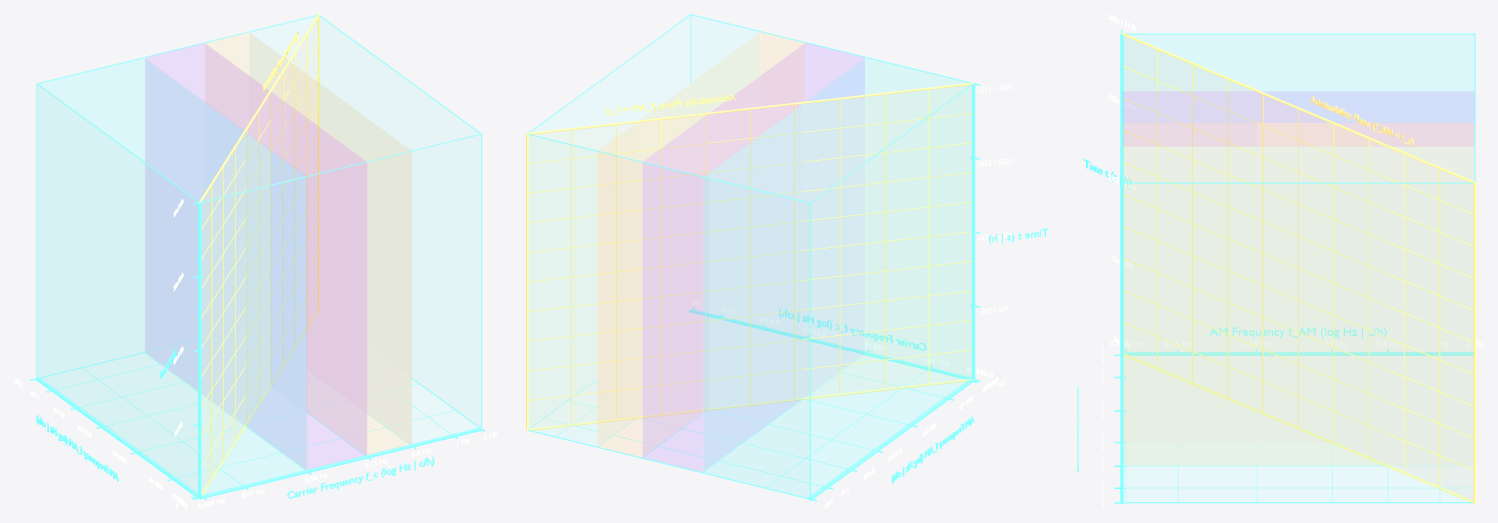
Rendered from hhsa_axes.glb.
3 renders of one model, left to right at view 1: azimuth 30°, elevation 25°; view 2: azimuth 150°, elevation 25°; view 3: azimuth 270°, elevation 25°, orthographic. The views are drawn at different scales.
Parts seen in each view (by area): view 1: BandSlab_fc_VLF, BandSlab_fc_LF, BandSlab_fc_HF, BandSlab_fc_VHF, Axis_Z_Time_t, Axis_X_Carrier_fc, Admissibility_fAM_eq_fc_z_10, Axis_Y_AM_fam, Title_Axis_X_fc, Admissibility_fAM_eq_fc_xy_10, Frame_Edge_6, Frame_Edge_8 (+9 smaller); view 2: BandSlab_fc_VLF, BandSlab_fc_LF, BandSlab_fc_VHF, BandSlab_fc_HF, Admissibility_fAM_eq_fc_xy_10, Admissibility_fAM_eq_fc_xy_0, Axis_Z_Time_t, Axis_X_Carrier_fc, Admissibility_fAM_eq_fc_z_10, Axis_Y_AM_fam, Admissibility_fAM_eq_fc_xy_2, Admissibility_fAM_eq_fc_xy_1 (+15 smaller); view 3: BandSlab_fc_VHF, BandSlab_fc_HF, BandSlab_fc_VLF, BandSlab_fc_LF, Axis_Y_AM_fam, Admissibility_fAM_eq_fc_z_10, Axis_Z_Time_t, Admissibility_fAM_eq_fc_xy_10, Admissibility_fAM_eq_fc_xy_0, Frame_Edge_3, Frame_Edge_5, Frame_Edge_0 (+21 smaller).
Part boxes in pixels (x1,y1,x2,y2): BandSlab_fc_VLF: (38, 58, 305, 494); BandSlab_fc_LF: (146, 44, 366, 468); BandSlab_fc_HF: (206, 33, 410, 454); BandSlab_fc_VHF: (250, 17, 480, 443); Axis_Z_Time_t: (198, 203, 201, 498); Axis_X_Carrier_fc: (200, 427, 482, 499); Admissibility_fAM_eq_fc_z_10: (317, 16, 319, 309); Axis_Y_AM_fam: (36, 377, 199, 499); Title_Axis_X_fc: (287, 456, 434, 498); Admissibility_fAM_eq_fc_xy_10: (199, 14, 319, 202); Frame_Edge_6: (481, 134, 482, 427); Frame_Edge_8: (36, 84, 37, 377); BandSlab_fc_VLF: (704, 58, 971, 497); BandSlab_fc_LF: (643, 43, 864, 471); BandSlab_fc_VHF: (529, 15, 759, 445); BandSlab_fc_HF: (598, 32, 804, 456); Admissibility_fAM_eq_fc_xy_10: (527, 82, 973, 134); Admissibility_fAM_eq_fc_xy_0: (527, 378, 971, 430); Axis_Z_Time_t: (972, 84, 975, 379); Axis_X_Carrier_fc: (690, 309, 971, 379); Admissibility_fAM_eq_fc_z_10: (526, 134, 528, 430); Axis_Y_AM_fam: (809, 378, 974, 500); Admissibility_fAM_eq_fc_xy_2: (528, 320, 972, 371); Admissibility_fAM_eq_fc_xy_1: (528, 349, 972, 400); BandSlab_fc_VHF: (1123, 147, 1473, 501); BandSlab_fc_HF: (1123, 123, 1473, 464); BandSlab_fc_VLF: (1124, 35, 1473, 122); BandSlab_fc_LF: (1123, 92, 1473, 145); Axis_Y_AM_fam: (1124, 352, 1473, 355); Admissibility_fAM_eq_fc_z_10: (1473, 183, 1476, 503); Axis_Z_Time_t: (1120, 33, 1123, 352); Admissibility_fAM_eq_fc_xy_10: (1121, 32, 1475, 183); Admissibility_fAM_eq_fc_xy_0: (1124, 353, 1474, 503); Frame_Edge_3: (1122, 182, 1473, 183); Frame_Edge_5: (1124, 33, 1474, 34); Frame_Edge_0: (1126, 502, 1473, 503).
Size of the model in its own units: 12.28 by 10.77 by 11.52.
